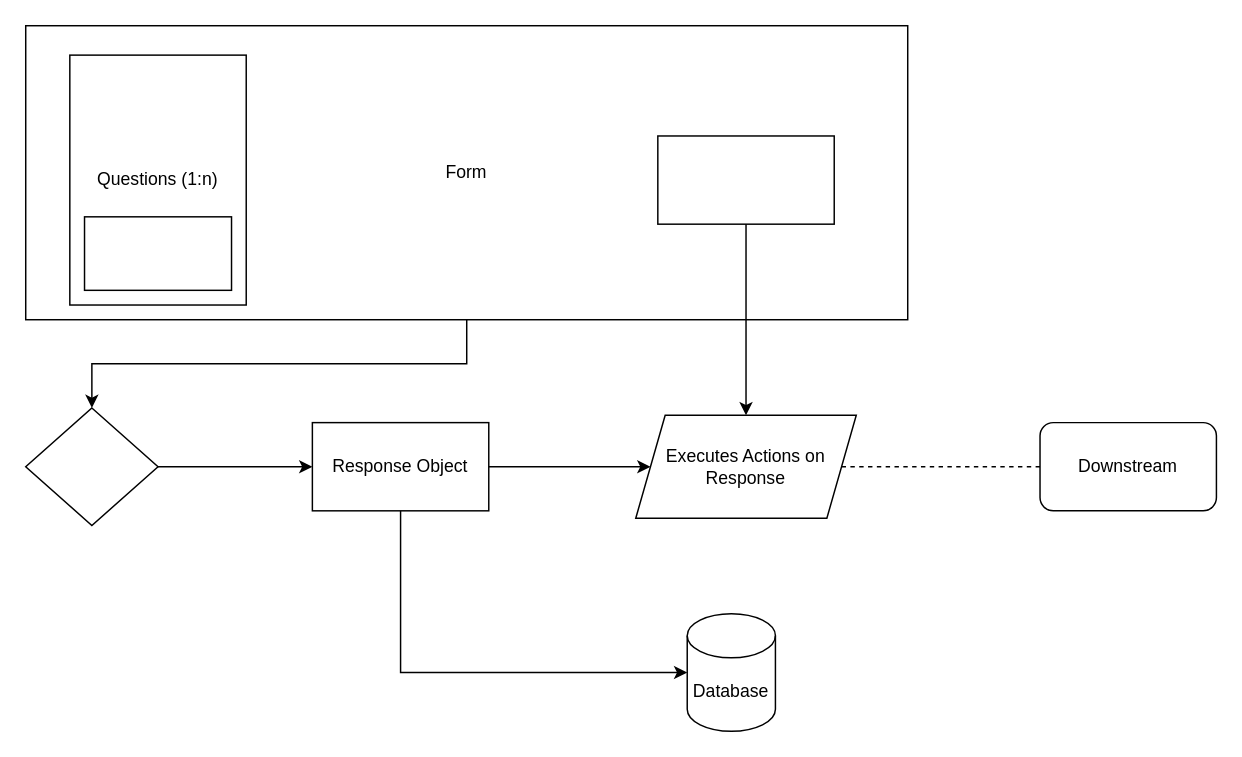
The diagram is 1242 pixels wide and 757 high, and some of its shapes have lost their labels. The shapes that lost their labels are listed below. From the top down, each one's box as (x1, y1, x2, y2) in pixels, then its label:
(656, 135, 834, 224): Actions List
(83, 215, 232, 290): Answers (1:1)
(24, 406, 158, 526): Submit
